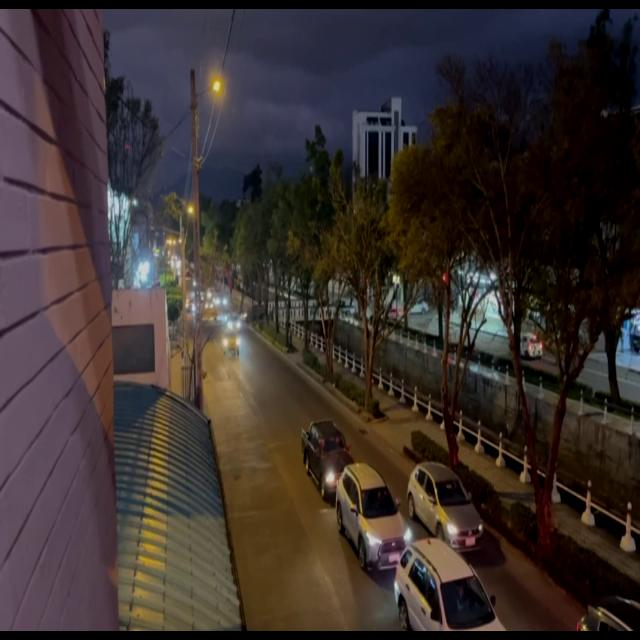CMT: (306, 426, 355, 504)
SUV: (339, 472, 406, 573)
